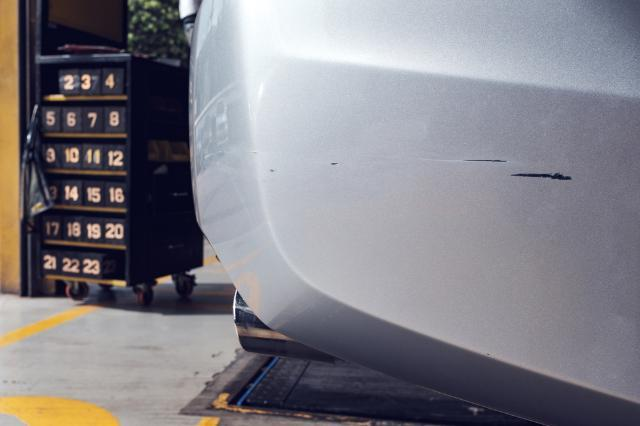scratch: (328, 157, 579, 182)
